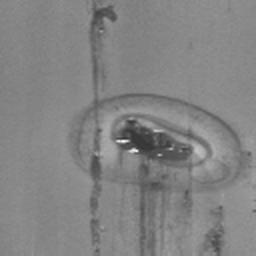Slag inclusion: (74, 0, 252, 256), (202, 204, 227, 256), (93, 248, 100, 253)
